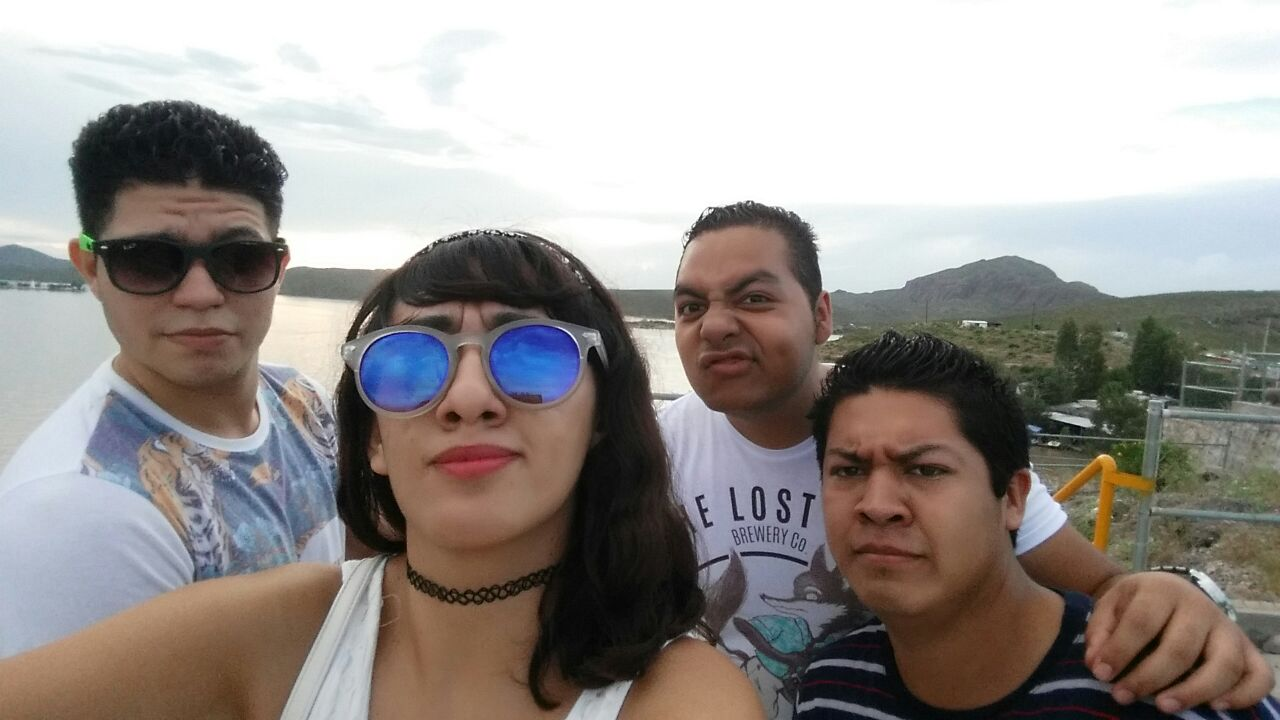Yoshi: (612, 168, 815, 433)
